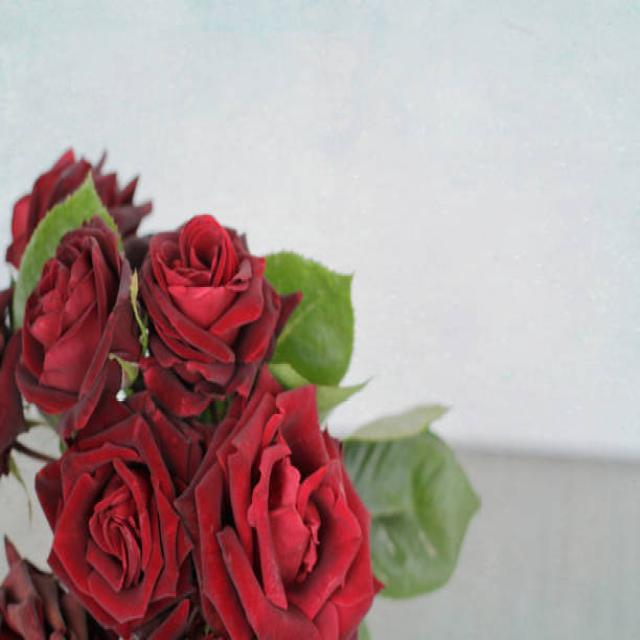paper: (9, 144, 467, 640), (182, 376, 384, 640), (363, 387, 508, 585), (145, 199, 286, 370)
